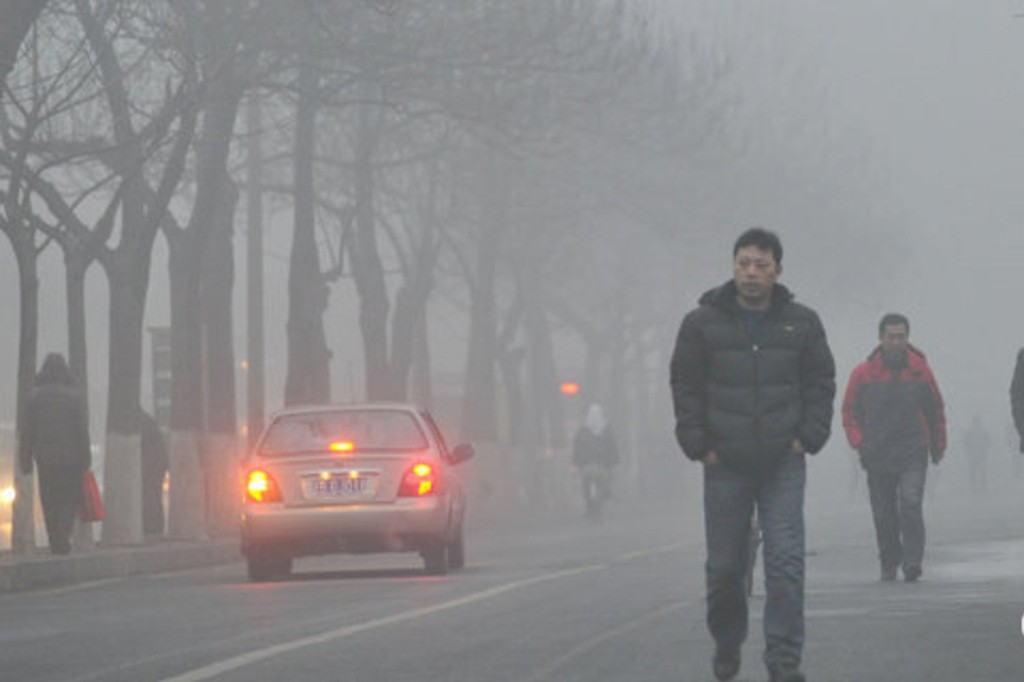bicycle: (577, 455, 616, 520)
car: (227, 406, 477, 584)
person: (667, 235, 836, 681), (840, 314, 948, 587), (15, 355, 96, 559), (571, 405, 617, 507)
